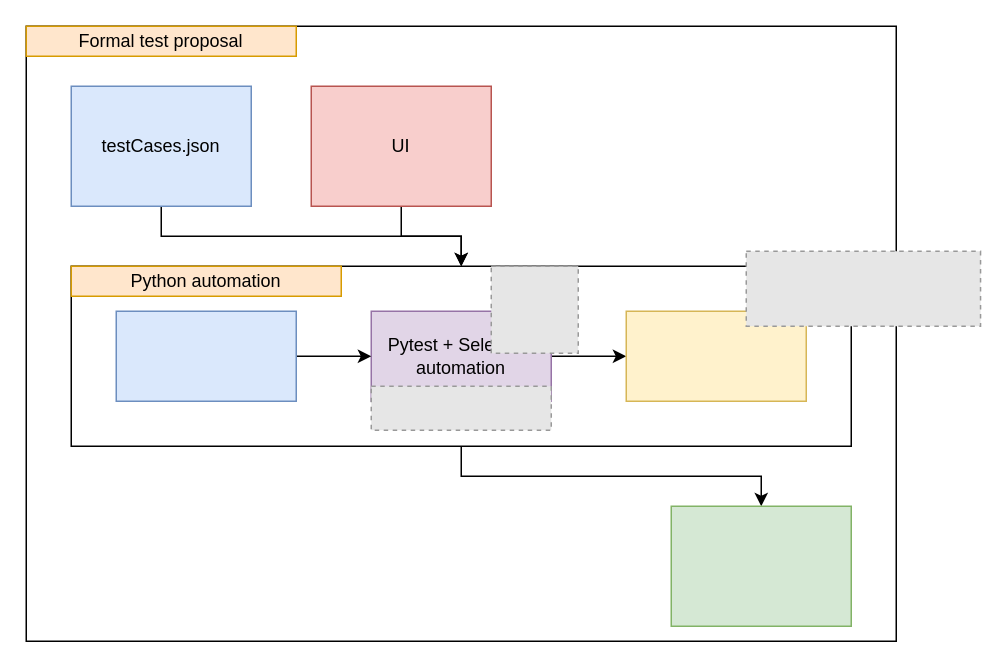
Image size: 1008x668. Some labels were removed from this diagram. Grey dashed boxes stand in for pictures. The centre of each missing label's shape, as x and y in pixels:
common: point 205,355
Report generator: point 715,355
Test Report: point 760,565
